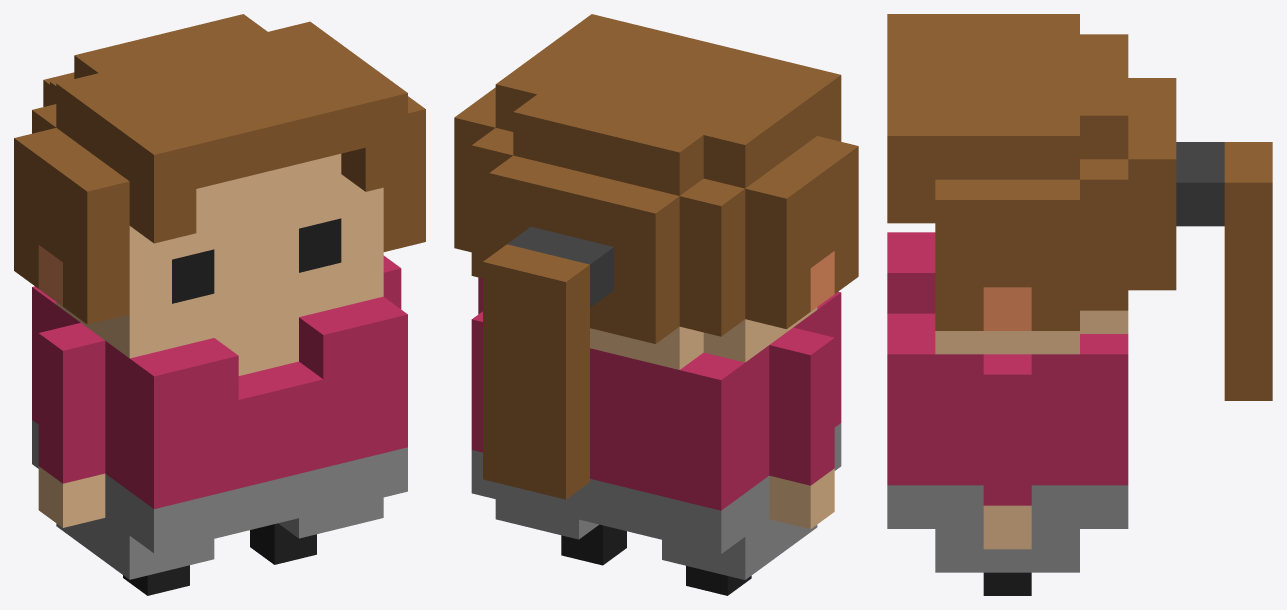
Rendered from chr_ponytail1.obj.
The picture shows the model from 3 angles, left to right: view 1: azimuth 30°, elevation 25°; view 2: azimuth 150°, elevation 25°; view 3: azimuth 270°, elevation 25°; orthographic projection.
Bounding box in the file's own units: 0.8 × 1.1 × 0.8.
1 material, 1 textured.
